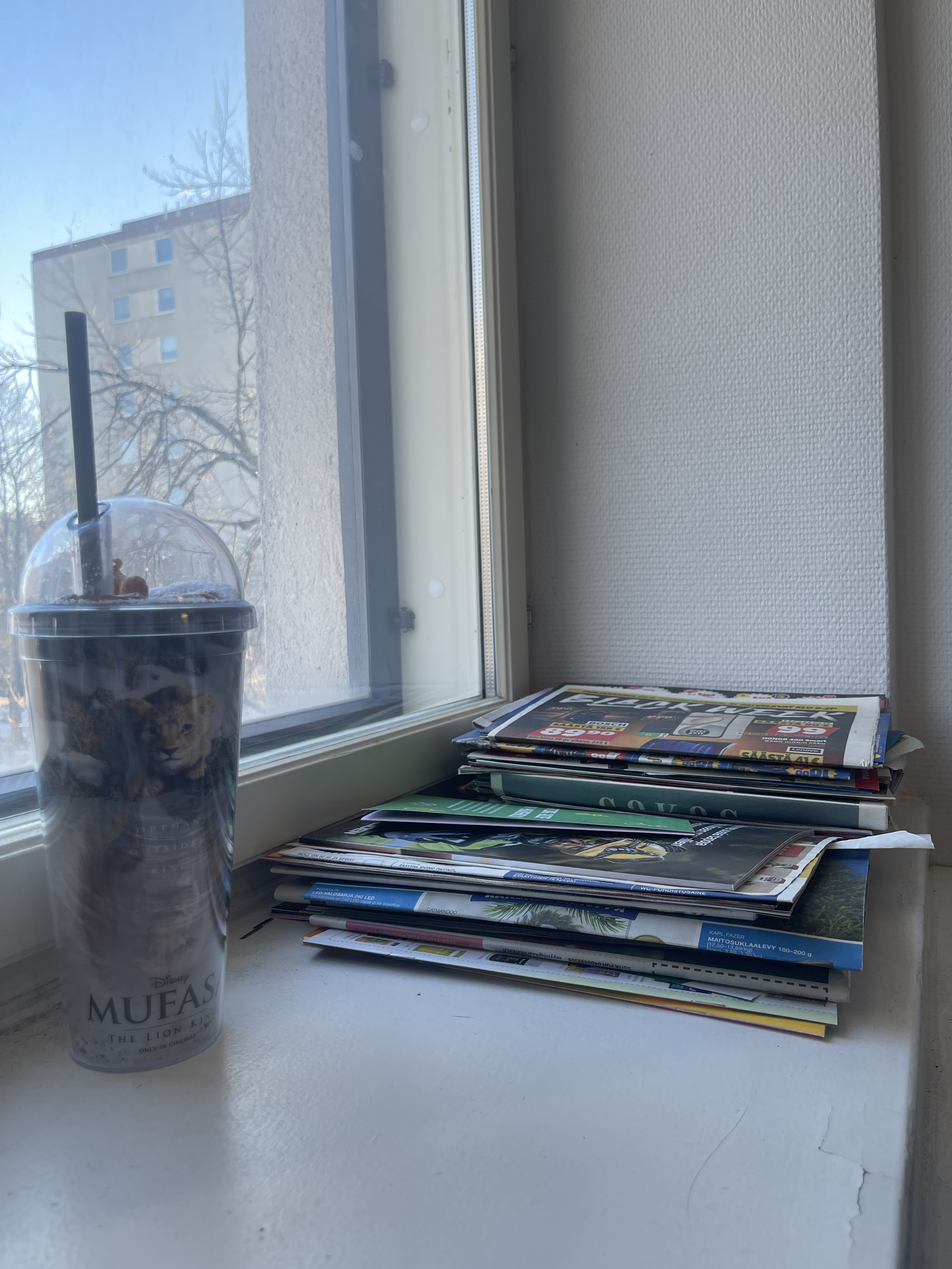paper: (268, 682, 941, 1047)
